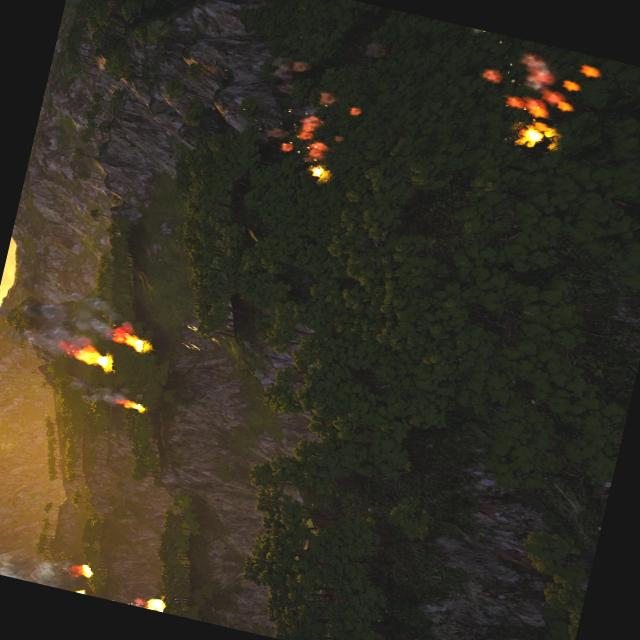fire: (72, 341, 115, 369), (516, 121, 556, 151), (114, 326, 151, 350), (114, 394, 148, 413), (144, 594, 166, 612), (309, 164, 327, 179), (76, 563, 94, 578), (74, 588, 86, 594)
smoke: (472, 39, 603, 128), (17, 281, 126, 364), (277, 84, 359, 168), (0, 535, 79, 591), (263, 104, 335, 162), (66, 377, 129, 408), (348, 104, 364, 116)
